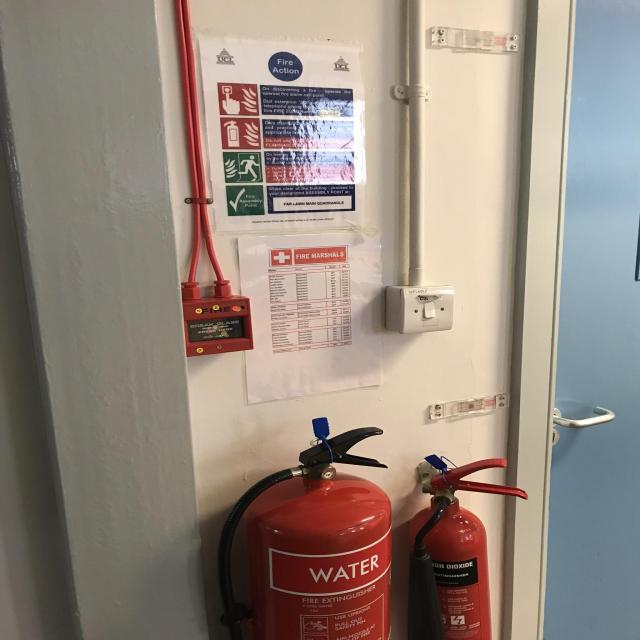fire_extinguisher: (214, 424, 398, 640), (398, 454, 532, 640)
